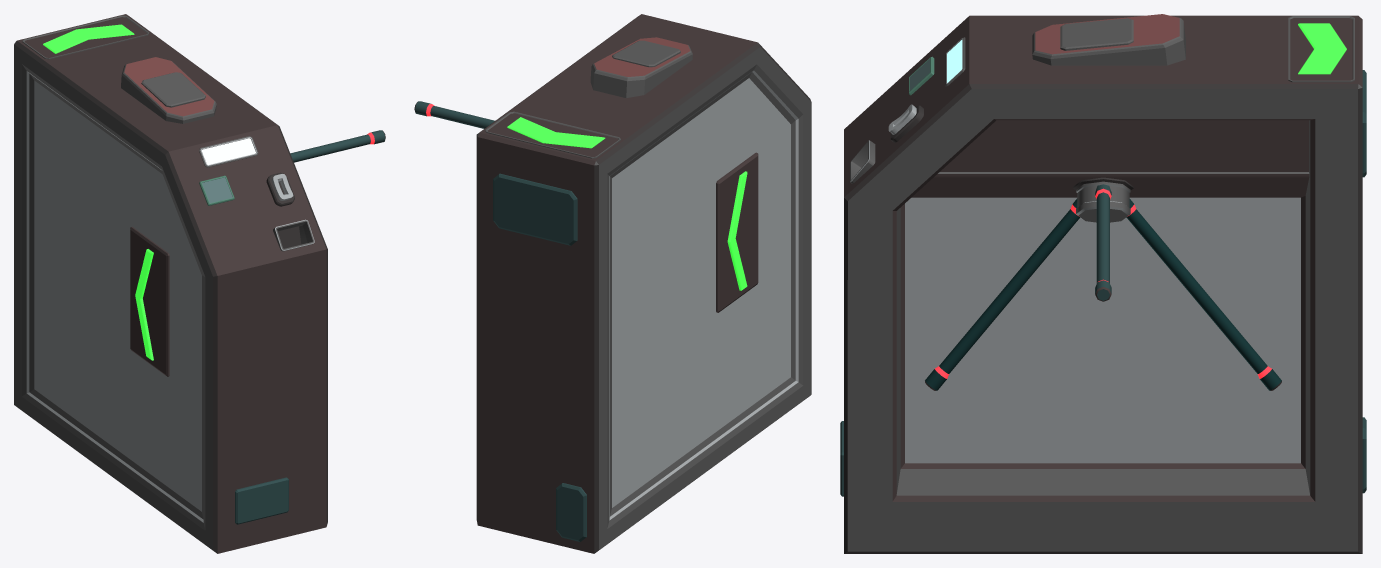
The model's file is MetroRails.fbx.
The picture shows the model from 3 angles, left to right: view 1: azimuth 30°, elevation 25°; view 2: azimuth 150°, elevation 25°; view 3: azimuth 270°, elevation 25°; orthographic projection. The views are drawn at different scales.
Parts seen in each view (by area): view 1: Cube.173, Cylinder.081, Cube.258; view 2: Cube.173, Cylinder.081; view 3: Cube.173, Cylinder.081.
Boxes of the visible parts, x1,y1,x2,y2 form: Cube.173: (14,14,327,553); Cylinder.081: (290,130,385,162); Cube.258: (199,175,234,205); Cube.173: (476,14,811,553); Cylinder.081: (414,101,494,128); Cube.173: (840,14,1366,553); Cylinder.081: (925,181,1281,390).
Size of the model in its own units: 155 by 210 by 203.
